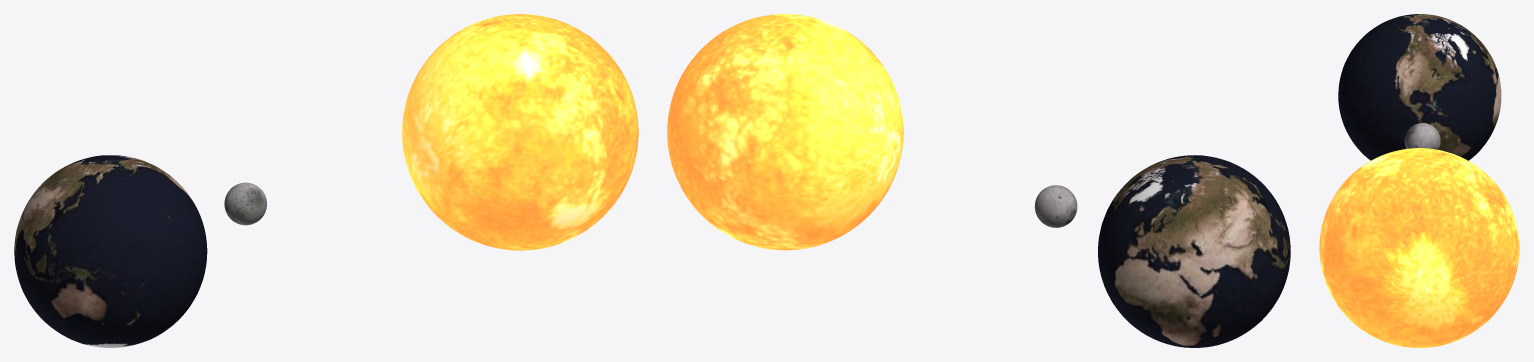
Rendered from eclipse.glb.
The picture shows the model from 3 angles, left to right: view 1: azimuth 30°, elevation 25°; view 2: azimuth 150°, elevation 25°; view 3: azimuth 270°, elevation 25°; orthographic projection. The views are drawn at different scales.
Visible parts, largest first — view 1: 2k_sun, Earth_Diffuse_6K, 2k_moon; view 2: 2k_sun, Earth_Diffuse_6K, 2k_moon; view 3: 2k_sun, Earth_Diffuse_6K, 2k_moon.
Boxes of the visible parts, x1,y1,x2,y2 form: 2k_sun: (402, 14, 638, 250); Earth_Diffuse_6K: (14, 155, 207, 347); 2k_moon: (224, 182, 266, 225); 2k_sun: (667, 14, 903, 250); Earth_Diffuse_6K: (1098, 155, 1290, 347); 2k_moon: (1034, 185, 1077, 227); 2k_sun: (1319, 148, 1519, 347); Earth_Diffuse_6K: (1338, 14, 1501, 160); 2k_moon: (1404, 123, 1440, 149).
Bounding box in the file's own units: 3.45 × 1.19 × 1.19.
Materials: 3 (3 with a texture image).
